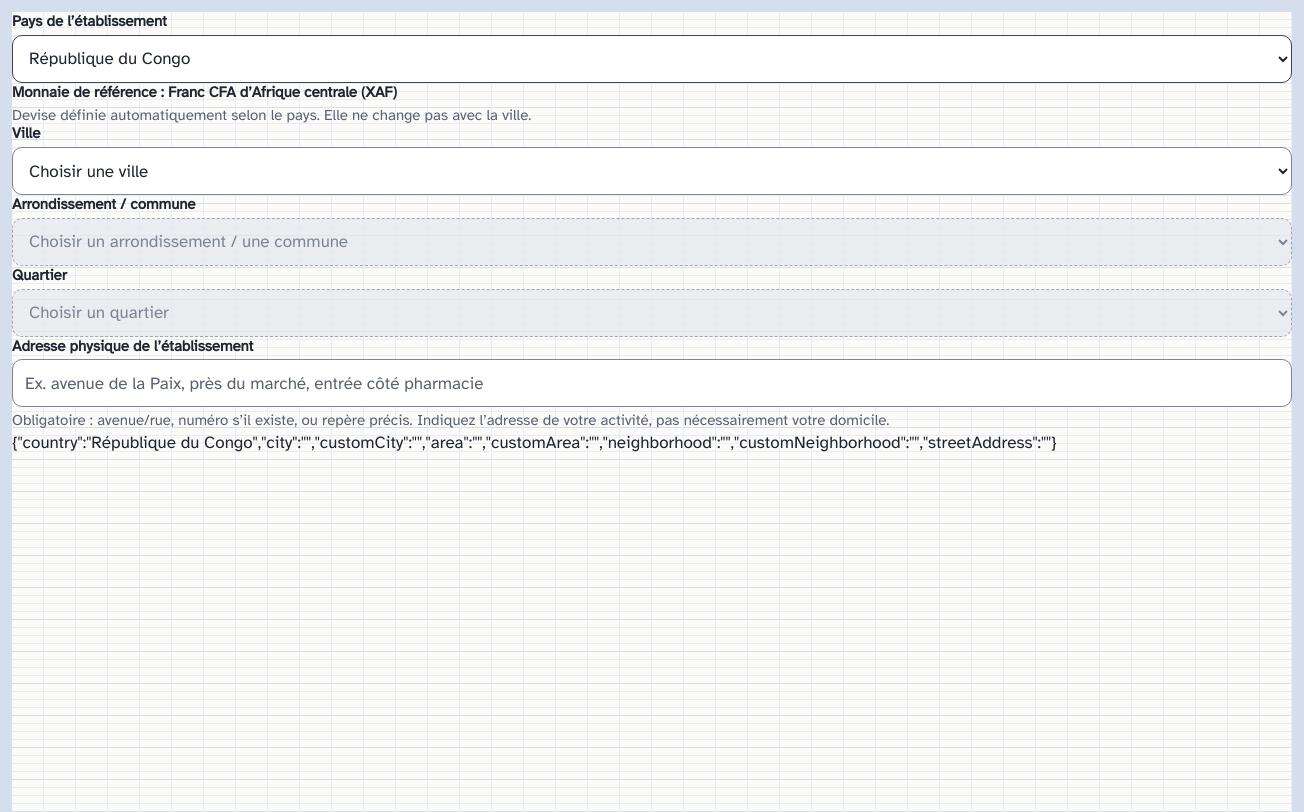
CEMAC business address onboarding › chooses a country-specific currency and preserves separate CFA zones
Expected: the text "Monnaie de référence : Franc CFA d’Afrique centrale (XAF)" is shown, [12,83,397,101]
Select "Côte d’Ivoire" in the dropdown labelled "Pays de l’établissement" at (652, 59), box [12,35,1292,83]
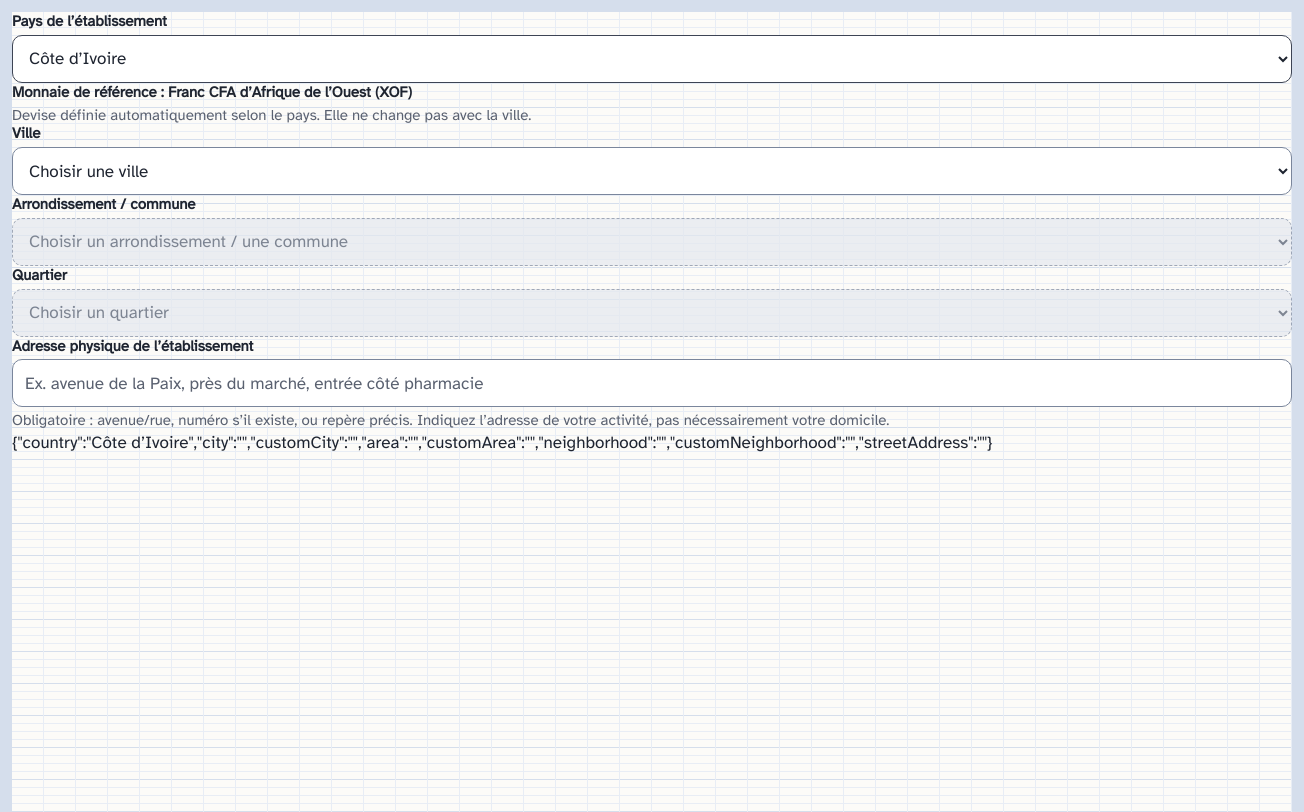
Expected: the text "Monnaie de référence : Franc CFA d’Afrique de l’Ouest (XOF)" is shown, [12,83,412,101]
Select "République démocratique du Congo" in the dropdown labelled "Pays de l’établissement" at (652, 59), box [12,35,1292,83]
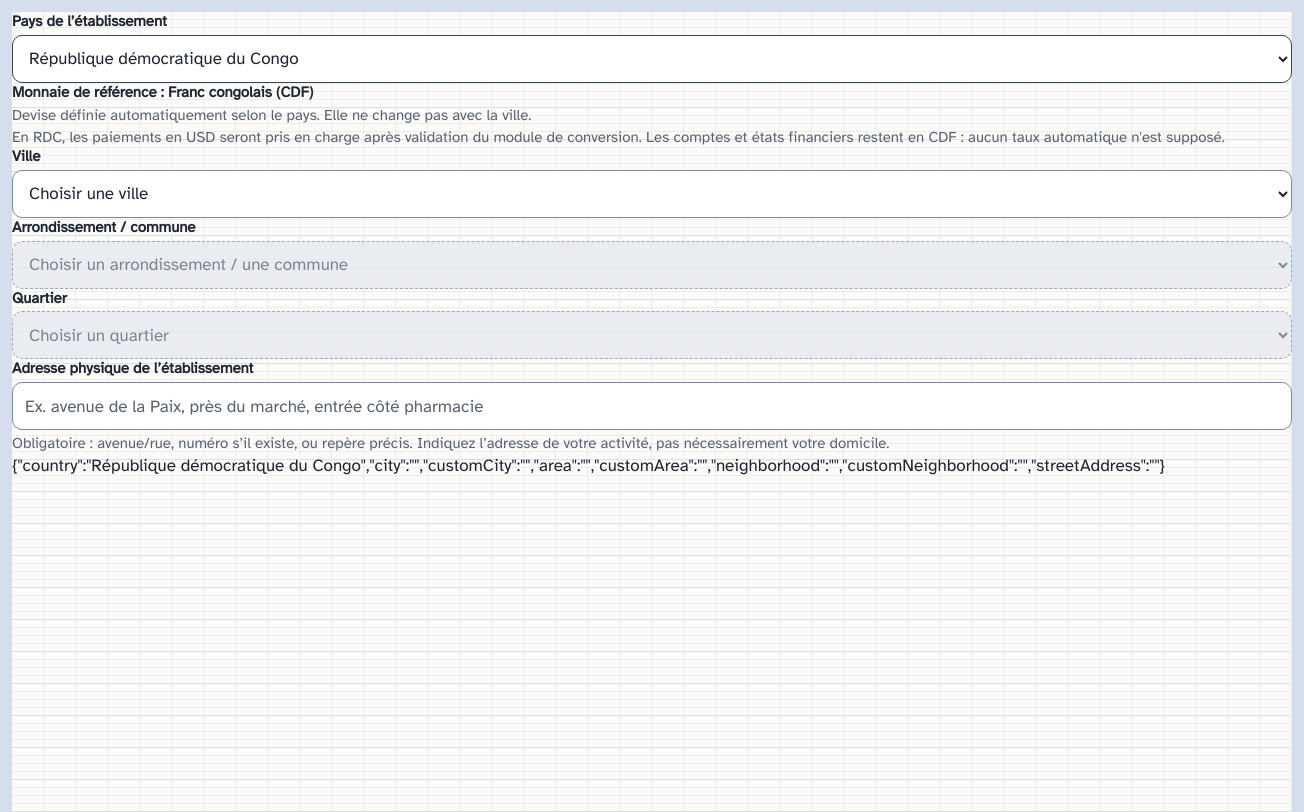
Expected: the text "Monnaie de référence : Franc congolais (CDF)" is shown, [12,83,313,101]
Expected: the text "les paiements en USD seront pris en charge" is shown, [12,128,1225,146]
Select "Nigeria" in the dropdown labelled "Pays de l’établissement" at (652, 59), box [12,35,1292,83]
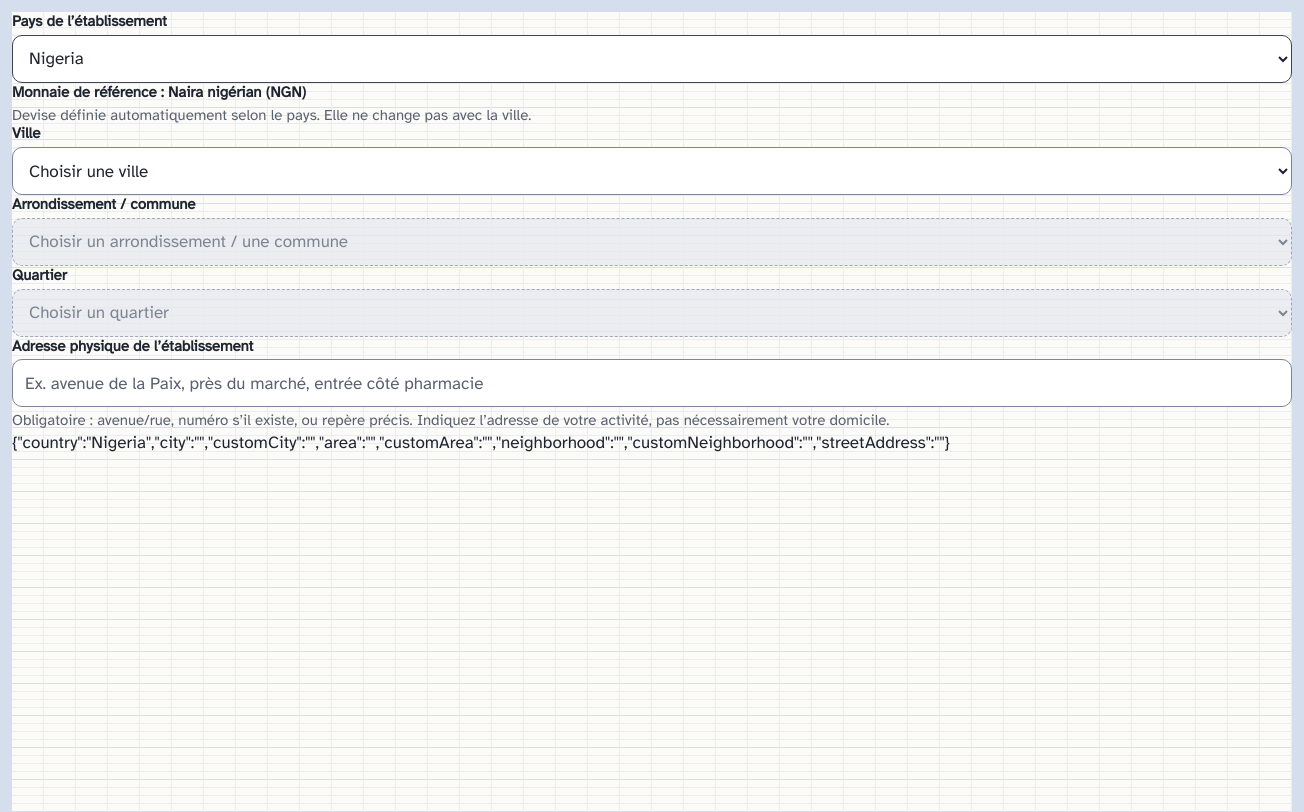
Expected: the text "Monnaie de référence : Naira nigérian (NGN)" is shown, [12,83,306,101]
